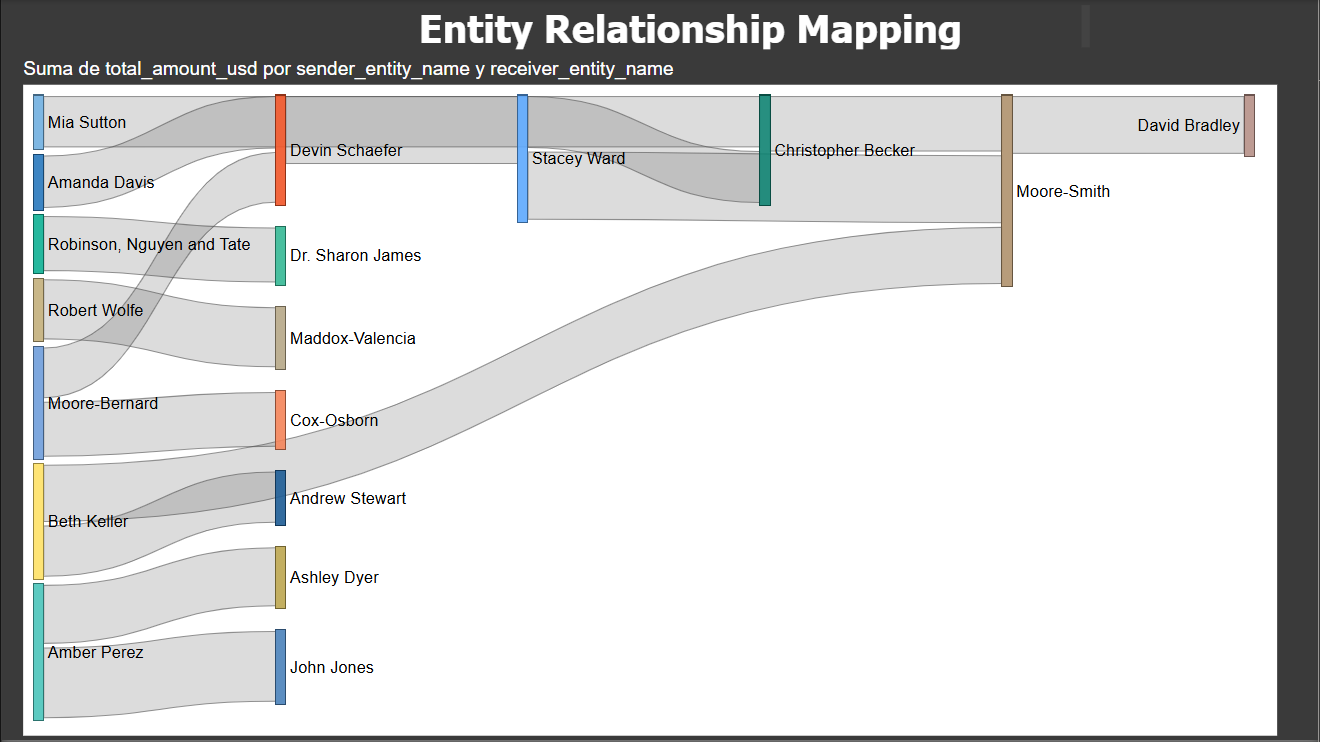

The dashboard page shown, as its layout file describes it:
{"tool":"powerbi","page":{"name":"RELATIONSHIP ANALYSIS","canvas":[1280,720],"ordinal":1},"visuals":[{"type":"sankey02300D1BE6F5427989F3DE31CCA9E0F32020","fields":{"Source":["relationships.sender_entity_name"],"Destination":["relationships.receiver_entity_name"],"Weight":["Sum(relationships.total_amount_usd)"]},"box":[16,56,1229,664],"z":0},{"type":"textbox","box":[285,0,778,53],"z":1000}]}

Visuals, with their boxes in screenshot pixels (x1, y1, x2, y2), scaled from the page's 1280x720 canvas onto the 1320x742 screenshot:
sankey02300D1BE6F5427989F3DE31CCA9E0F32020 - relationships.sender_entity_name x relationships.receiver_entity_name: 16 58 1284 741
textbox: 294 0 1096 55
